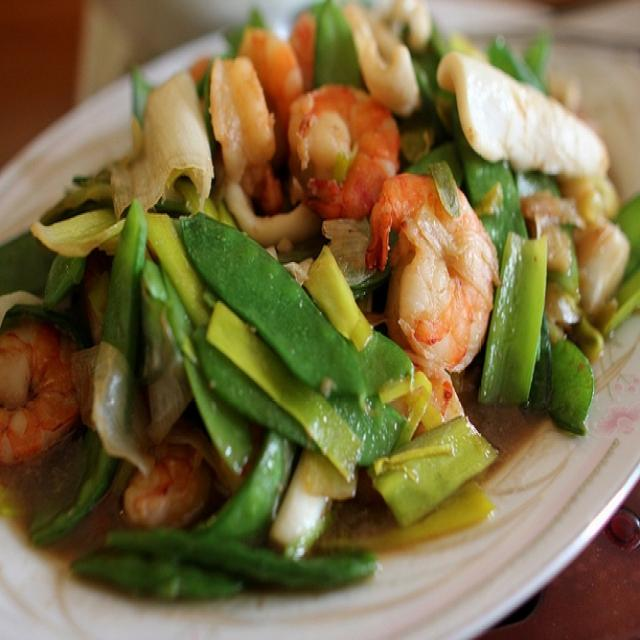蔬菜料理: (44, 36, 564, 584)
